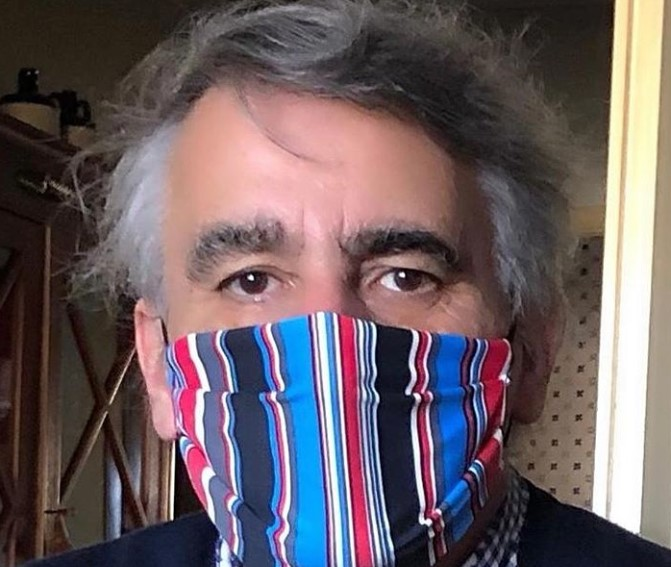face_with_mask: (137, 26, 556, 567)
